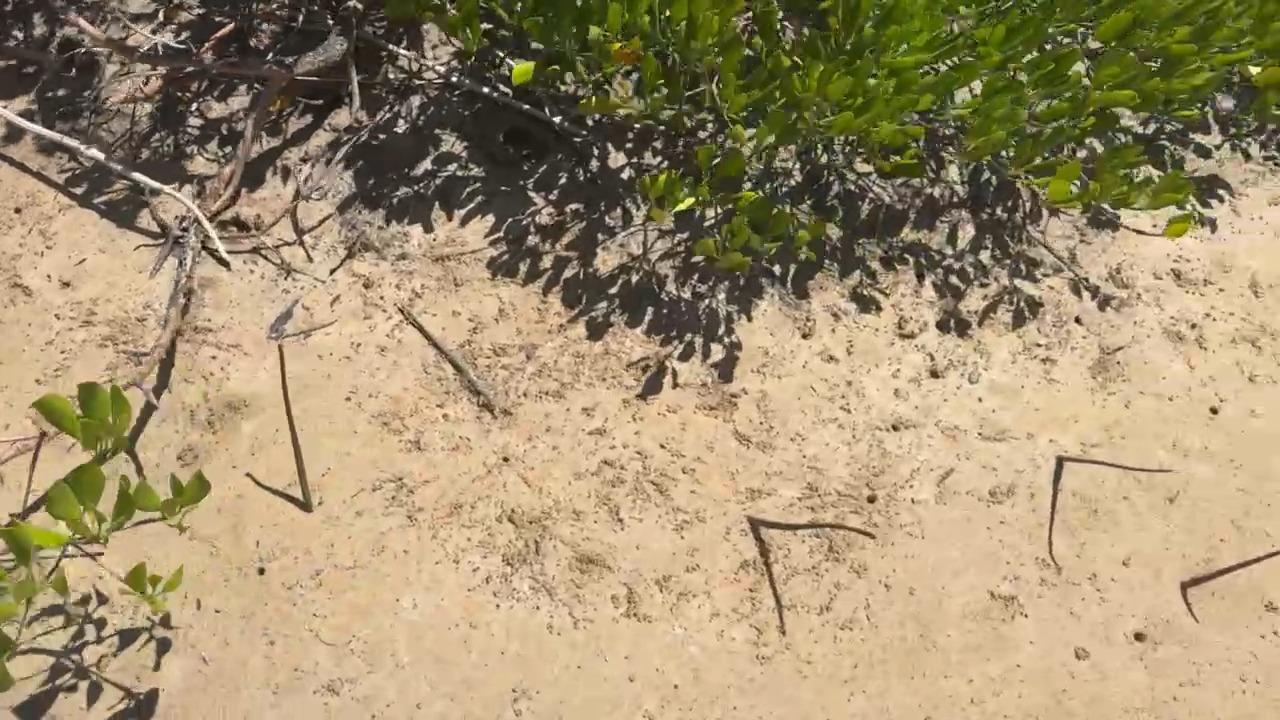Tree: (276, 342, 314, 512), (1180, 550, 1280, 594), (744, 513, 876, 542), (1055, 455, 1174, 474)
